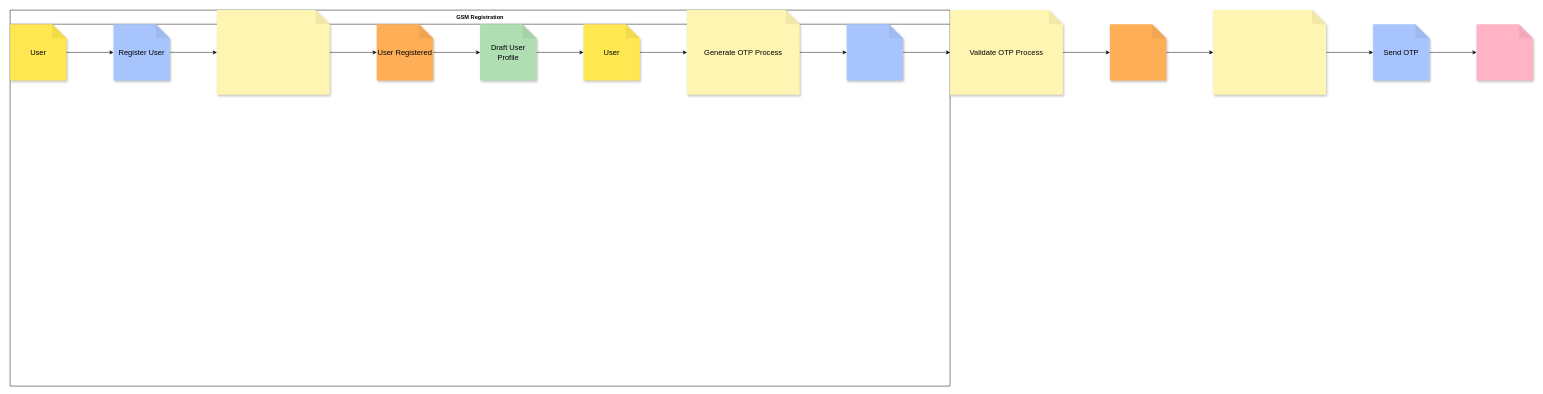
The diagram is 1543 pixels wide and 394 high, and some of its shapes have lost their labels. The centre of each missing label's shape, as x and y in pixels:
Email Service: (1504,53)
Generate OTP: (875,53)
Policy1: (273,53)
Register OTP Generated: (1138,53)
Send OTP Process: (1270,53)
